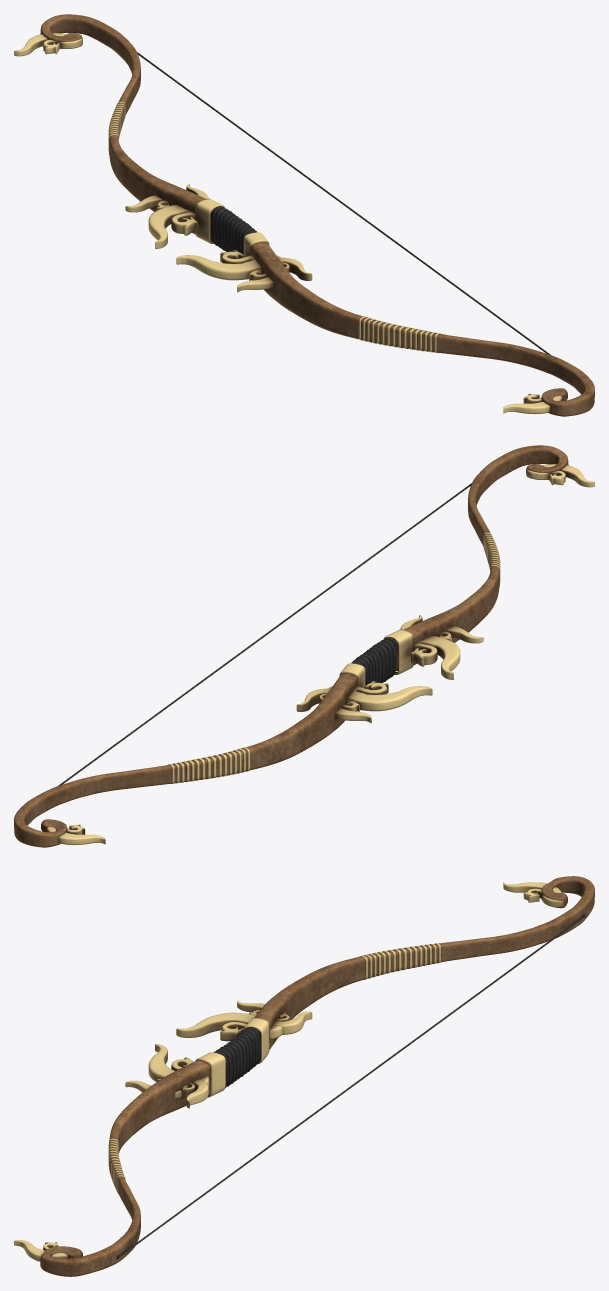
File: BOW.fbx
The picture shows the model from 3 angles, top to bottom: view 1: azimuth 30°, elevation 25°; view 2: azimuth 150°, elevation 25°; view 3: azimuth 330°, elevation 25°; orthographic projection.
Visible parts, largest first — view 1: Arch.004, Plane.003, Arch.005, Plane.006, Grip.003, Cylinder.002, Ornament.001, Plane.005, Plane.007; view 2: Arch.004, Plane.003, Arch.005, Plane.006, Grip.003, Cylinder.002, Ornament.001, Plane.005, Plane.007; view 3: Arch.004, Plane.003, Arch.005, Grip.003, Cylinder.002, Plane.006, Ornament.001, Plane.007, Plane.005.
Part boxes in pixels (x1,y1,x2,y2): Arch.004: [40, 14, 594, 416]; Plane.003: [148, 204, 280, 280]; Arch.005: [108, 101, 440, 352]; Plane.006: [14, 33, 562, 414]; Grip.003: [210, 206, 256, 254]; Cylinder.002: [137, 52, 550, 354]; Ornament.001: [195, 198, 269, 256]; Plane.005: [125, 195, 273, 292]; Plane.007: [186, 184, 312, 280]; Arch.004: [14, 445, 568, 847]; Plane.003: [328, 635, 460, 711]; Arch.005: [168, 532, 500, 783]; Plane.006: [46, 464, 594, 845]; Grip.003: [351, 637, 398, 685]; Cylinder.002: [58, 483, 471, 785]; Ornament.001: [339, 629, 413, 687]; Plane.005: [335, 626, 483, 723]; Plane.007: [296, 615, 422, 711]; Arch.004: [40, 876, 594, 1276]; Plane.003: [148, 1012, 282, 1087]; Arch.005: [108, 943, 440, 1193]; Grip.003: [213, 1026, 261, 1087]; Cylinder.002: [117, 913, 585, 1258]; Plane.006: [14, 882, 563, 1261]; Ornament.001: [195, 1018, 269, 1097]; Plane.007: [181, 1011, 312, 1108]; Plane.005: [125, 1000, 284, 1098].
Size of the model in its own units: 135 by 26.79 by 659.
3 materials, 3 textured.
